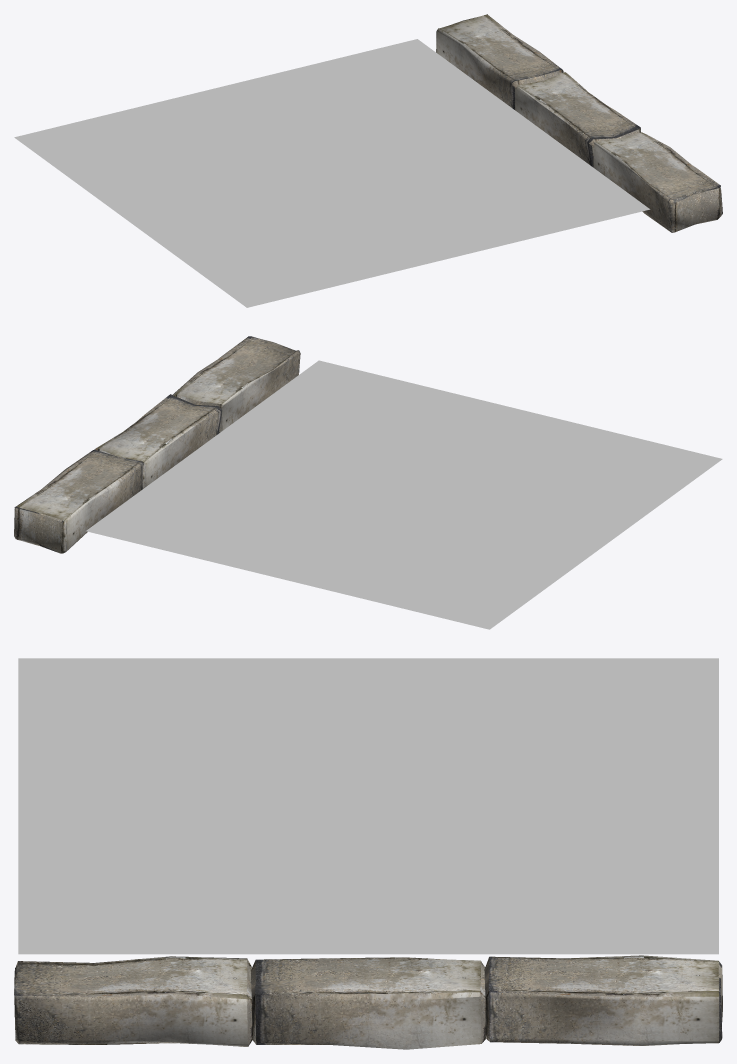
File: asplhault.FBX
3 views of the same model, one above another, from view 1: azimuth 30°, elevation 25°; view 2: azimuth 150°, elevation 25°; view 3: azimuth 270°, elevation 25° (orthographic). The views are drawn at different scales.
Visible parts, largest first — view 1: Plane001, Box001; view 2: Plane001, Box001; view 3: Plane001, Box001.
Part boxes in pixels (x1,y1,x2,y2): Plane001: (14,39,650,307); Box001: (436,14,722,232); Plane001: (86,360,722,629); Box001: (14,336,300,553); Plane001: (18,658,718,954); Box001: (14,955,722,1049).
Bounding box in the file's own units: 1181 × 94.52 × 1012.
